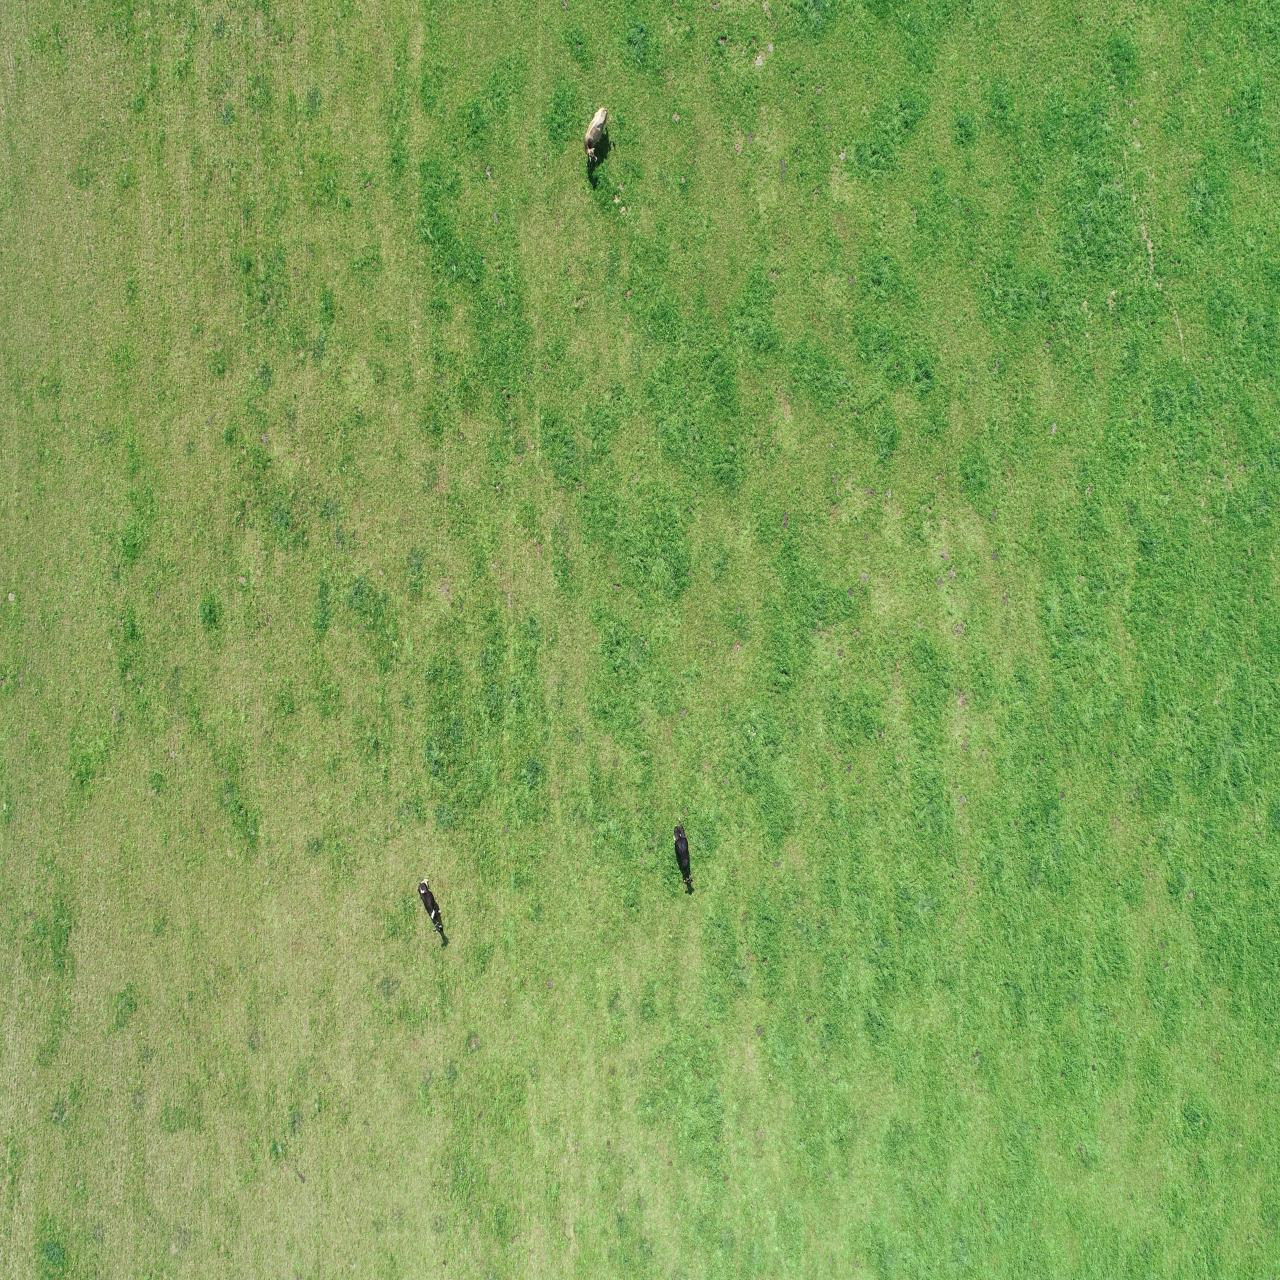cow: (415, 876, 445, 937), (670, 816, 694, 888), (584, 105, 613, 163)
